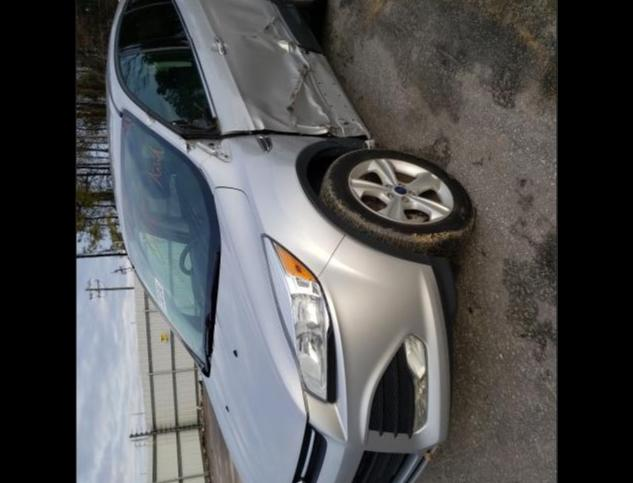Broken part: (220, 127, 371, 145)
Dent: (208, 33, 366, 136), (199, 0, 298, 42), (233, 135, 312, 166)
Missing part: (299, 48, 368, 136), (172, 118, 231, 162)
Paint chip: (178, 136, 195, 153), (147, 114, 156, 123), (145, 124, 149, 126)
